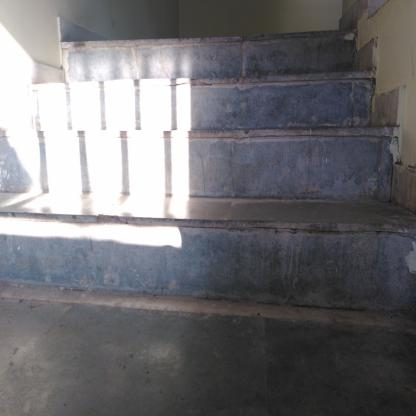stairs: (64, 27, 355, 310)
